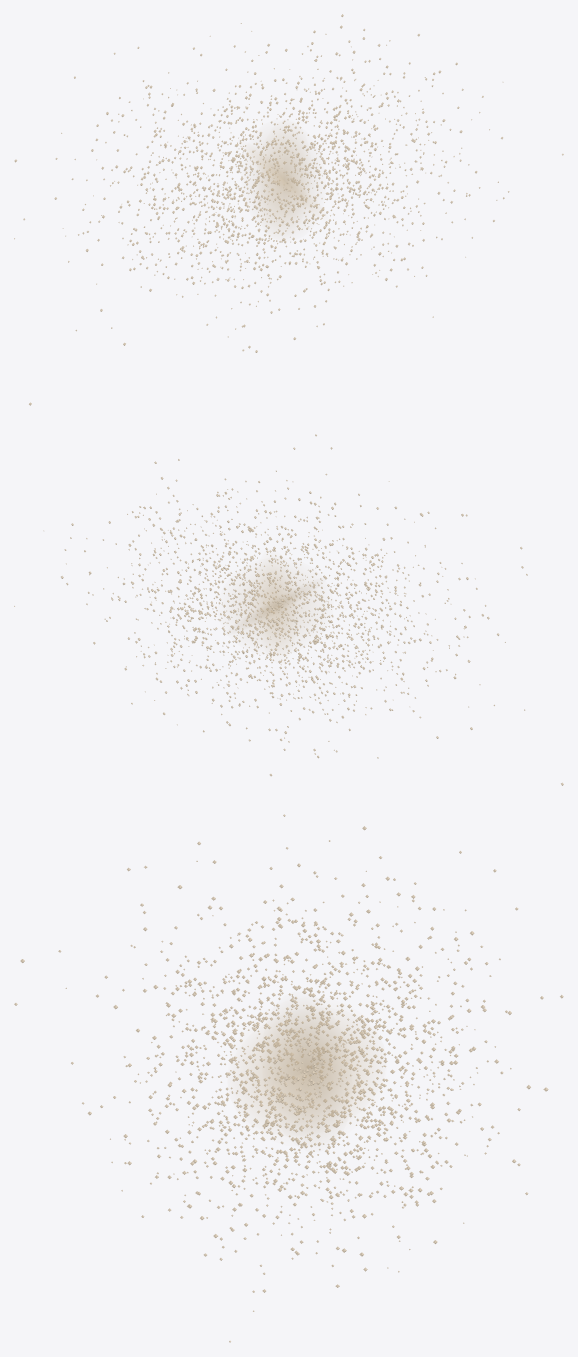
The picture shows the model from 3 angles, top to bottom: view 1: azimuth 30°, elevation 25°; view 2: azimuth 150°, elevation 25°; view 3: azimuth 270°, elevation 25°; orthographic projection. The views are drawn at different scales.
Bounding box in the file's own units: 8.2 × 4.22 × 5.58.
